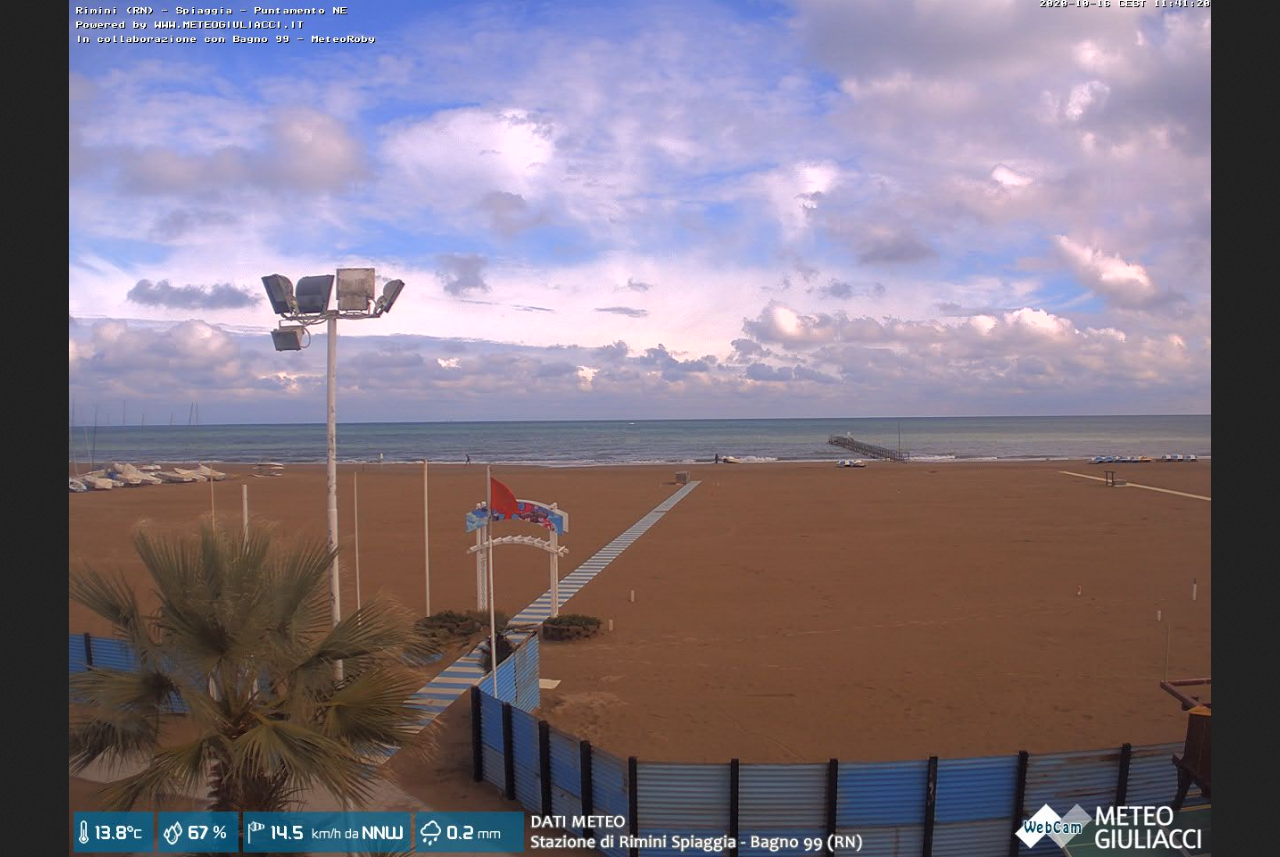yes: (487, 476, 520, 521)
